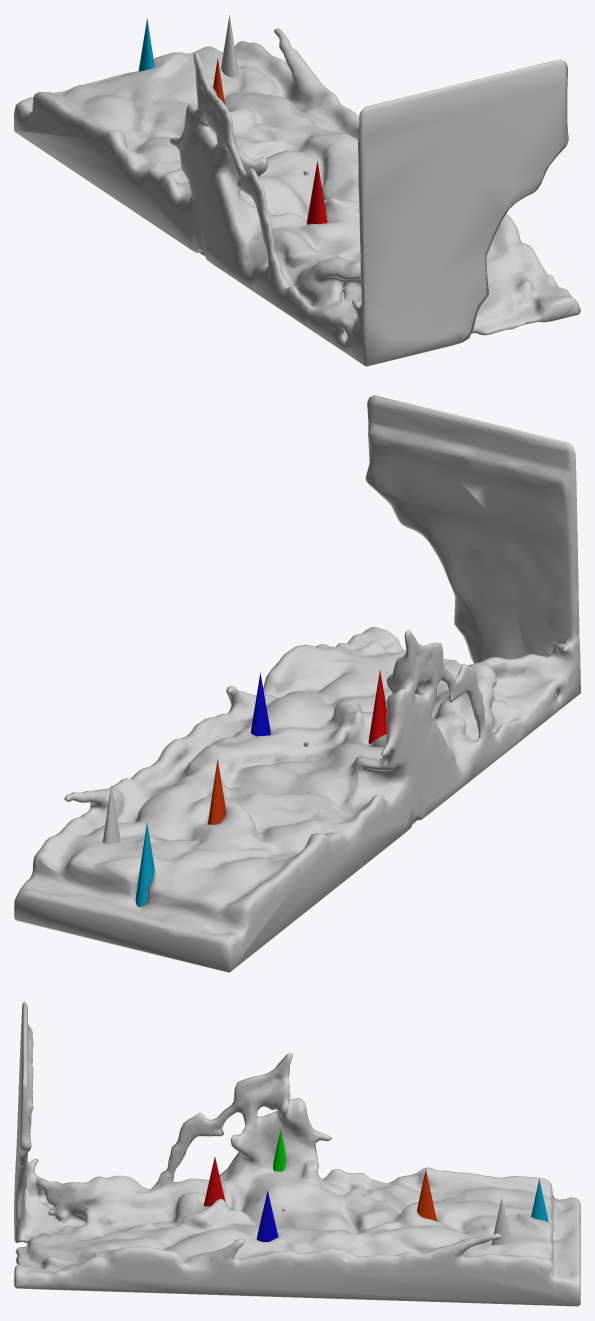
3 renders of one model, top to bottom at view 1: azimuth 30°, elevation 25°; view 2: azimuth 150°, elevation 25°; view 3: azimuth 270°, elevation 25°, orthographic. The views are drawn at different scales.
Parts seen in each view (by area): view 1: Liquid_Domain, 円錐.001, 円錐, 円錐.005; view 2: Liquid_Domain, 円錐.005, 円錐.001; view 3: Liquid_Domain, 円錐.002, 円錐.004, 円錐.001, 円錐, 円錐.005.
Part boxes in pixels (box(x1,y1,x2,y2)): Liquid_Domain: box(14, 28, 580, 366); 円錐.001: box(307, 161, 327, 224); 円錐: box(221, 15, 238, 78); 円錐.005: box(138, 18, 154, 71); Liquid_Domain: box(14, 395, 580, 972); 円錐.005: box(135, 822, 154, 906); 円錐.001: box(368, 670, 386, 743); Liquid_Domain: box(14, 1001, 580, 1306); 円錐.002: box(256, 1191, 278, 1241); 円錐.004: box(417, 1169, 436, 1221); 円錐.001: box(204, 1157, 225, 1206); 円錐: box(491, 1197, 511, 1244); 円錐.005: box(531, 1179, 548, 1222).
Bounding box in the file's own units: 129 × 157 × 361.
